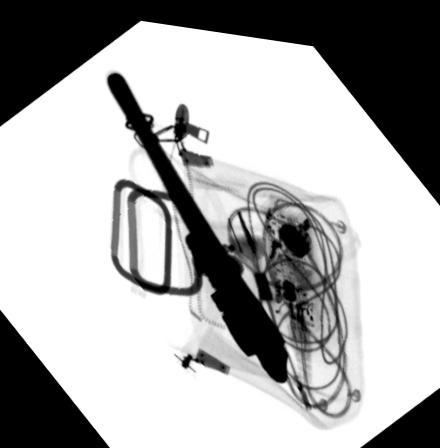Wrench: (105, 67, 290, 376)
